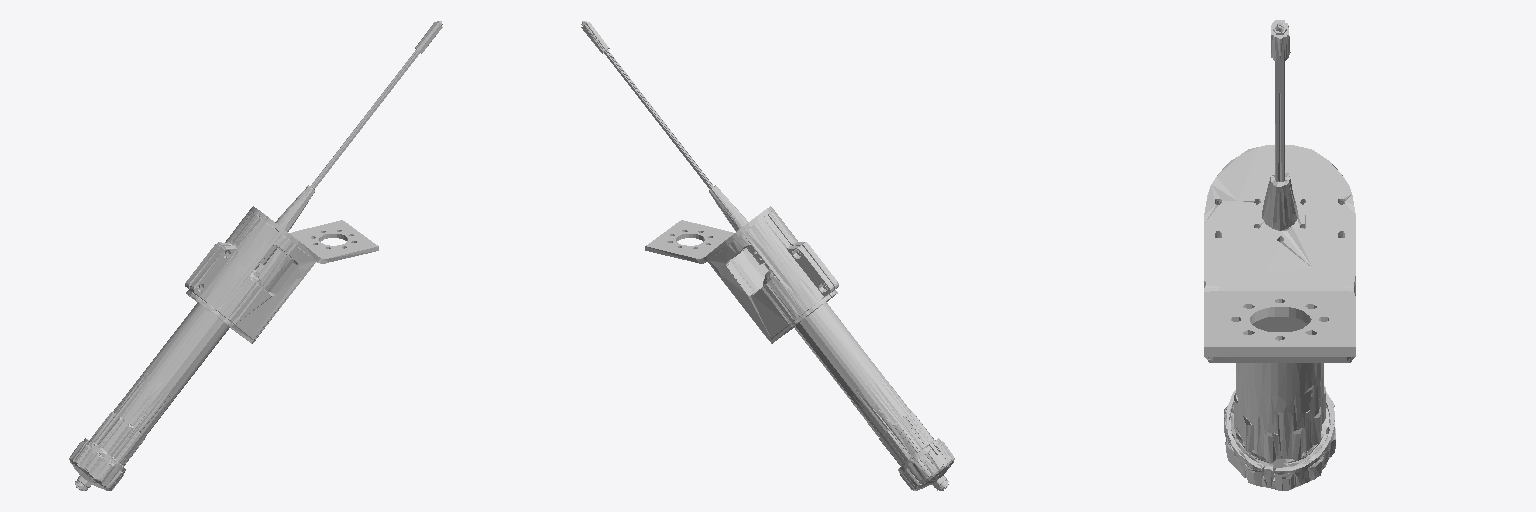
The robot description file, URDF, robot "otto1":
<?xml version="1.0" encoding="utf-8"?>
<robot name="otto1">
  <link name="attached_tool_link">
    <visual>
      <geometry>
        <mesh filename="package://otto1/meshes/visual/attached_tool_link_0.obj"/>
      </geometry>
      <material name="Material">
        <color rgba="0.8 0.8 0.8 1.0"/>
      </material>
    </visual>
    <collision>
      <geometry>
        <mesh filename="package://otto1/meshes/collision/attached_tool_link_0.obj"/>
      </geometry>
    </collision>
    <collision>
      <geometry>
        <mesh filename="package://otto1/meshes/collision/attached_tool_link_1.obj"/>
      </geometry>
    </collision>
    <collision>
      <geometry>
        <mesh filename="package://otto1/meshes/collision/attached_tool_link_2.obj"/>
      </geometry>
    </collision>
    <collision>
      <geometry>
        <mesh filename="package://otto1/meshes/collision/attached_tool_link_3.obj"/>
      </geometry>
    </collision>
  </link>
</robot>

--- What the picture shows (computed from the rendered views, not written in the file) ---
Views: 3 orthographic renders of the robot side by side, from view 1: azimuth 30°, elevation 25°; view 2: azimuth 150°, elevation 25°; view 3: azimuth 270°, elevation 25°.
Robot: otto1 — 1 links, 0 joints (none); root link attached_tool_link; default pose: all joints at 0.
Visible links, largest first — view 1: attached_tool_link; view 2: attached_tool_link; view 3: attached_tool_link.
Boxes of the visible links, x1,y1,x2,y2 form: attached_tool_link: (69, 21, 442, 490); attached_tool_link: (581, 21, 954, 490); attached_tool_link: (1204, 20, 1355, 490).
Bounding box of the posed robot: 0.507 × 0.086 × 0.507 m (x, y, z).
1 mesh visuals loaded from 1 distinct referenced files (1 OBJ).
